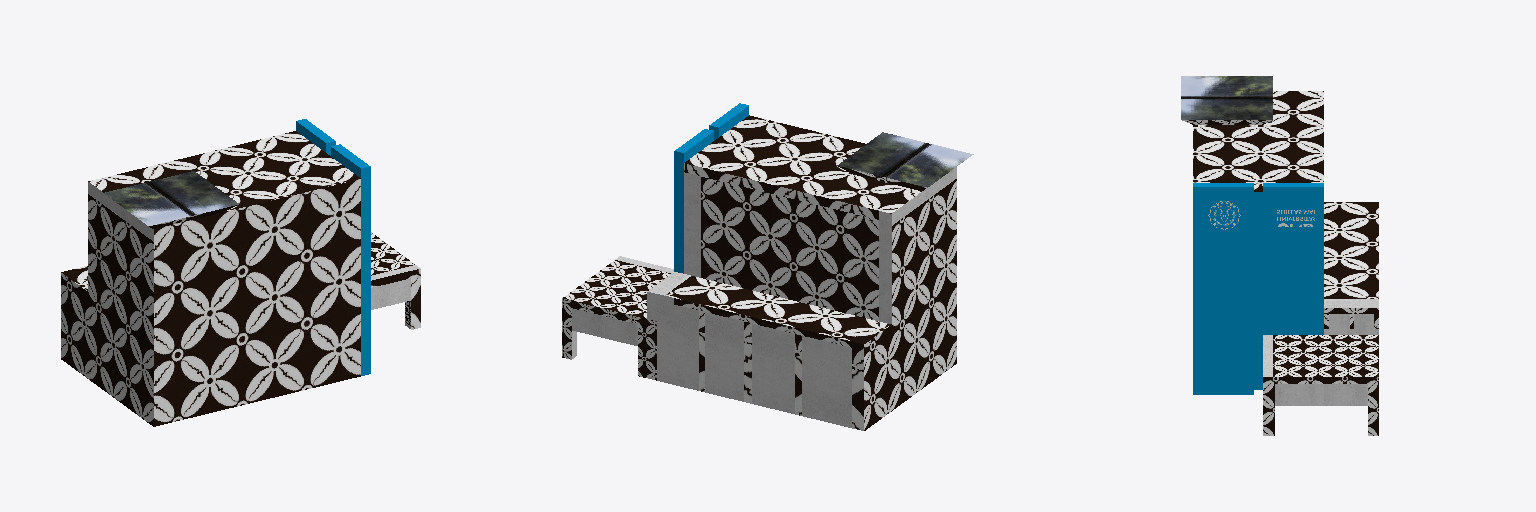
3 renders of one model, left to right at view 1: azimuth 30°, elevation 25°; view 2: azimuth 150°, elevation 25°; view 3: azimuth 270°, elevation 25°, orthographic.
Visible parts, largest first — view 1: Cube.002_Cube; view 2: Cube.002_Cube; view 3: Cube.002_Cube.
Boxes of the visible parts, x1,y1,x2,y2 form: Cube.002_Cube: [61, 119, 420, 426]; Cube.002_Cube: [562, 103, 973, 430]; Cube.002_Cube: [1181, 76, 1378, 435].
Size of the model in its own units: 33.14 by 21 by 18.1.
1 materials, 1 textured.